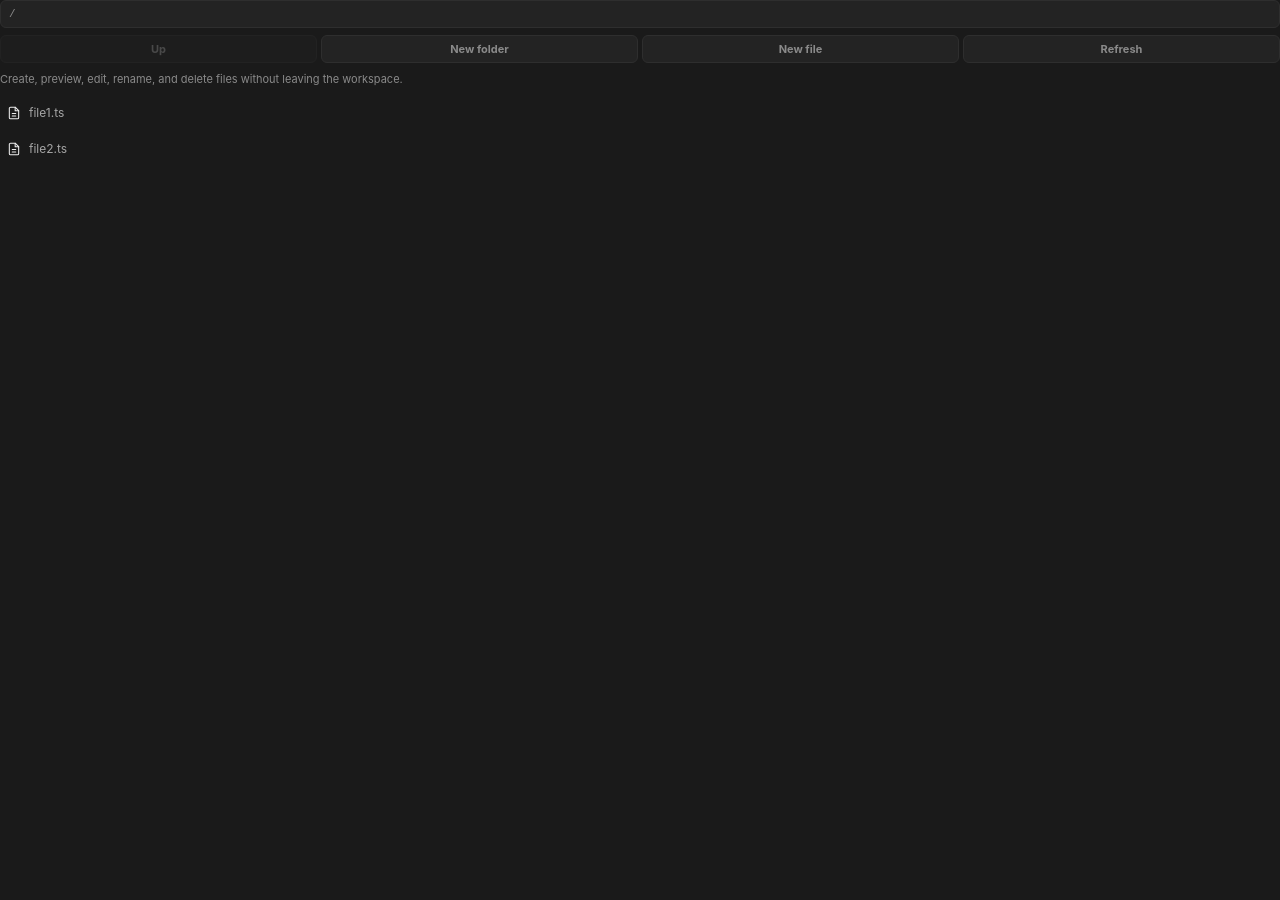
it: WorkspaceFilePanel - Error Handling Properties › Property 6: Failed operations preserve view state › should preserve entries when createFolder fails
expect the text "file1.ts" is shown: met, box [29, 105, 64, 120]
expect the text "file2.ts" is shown: met, box [29, 141, 67, 156]
Click the button "New folder": {"x": 480, "y": 49} [321, 35, 638, 63]
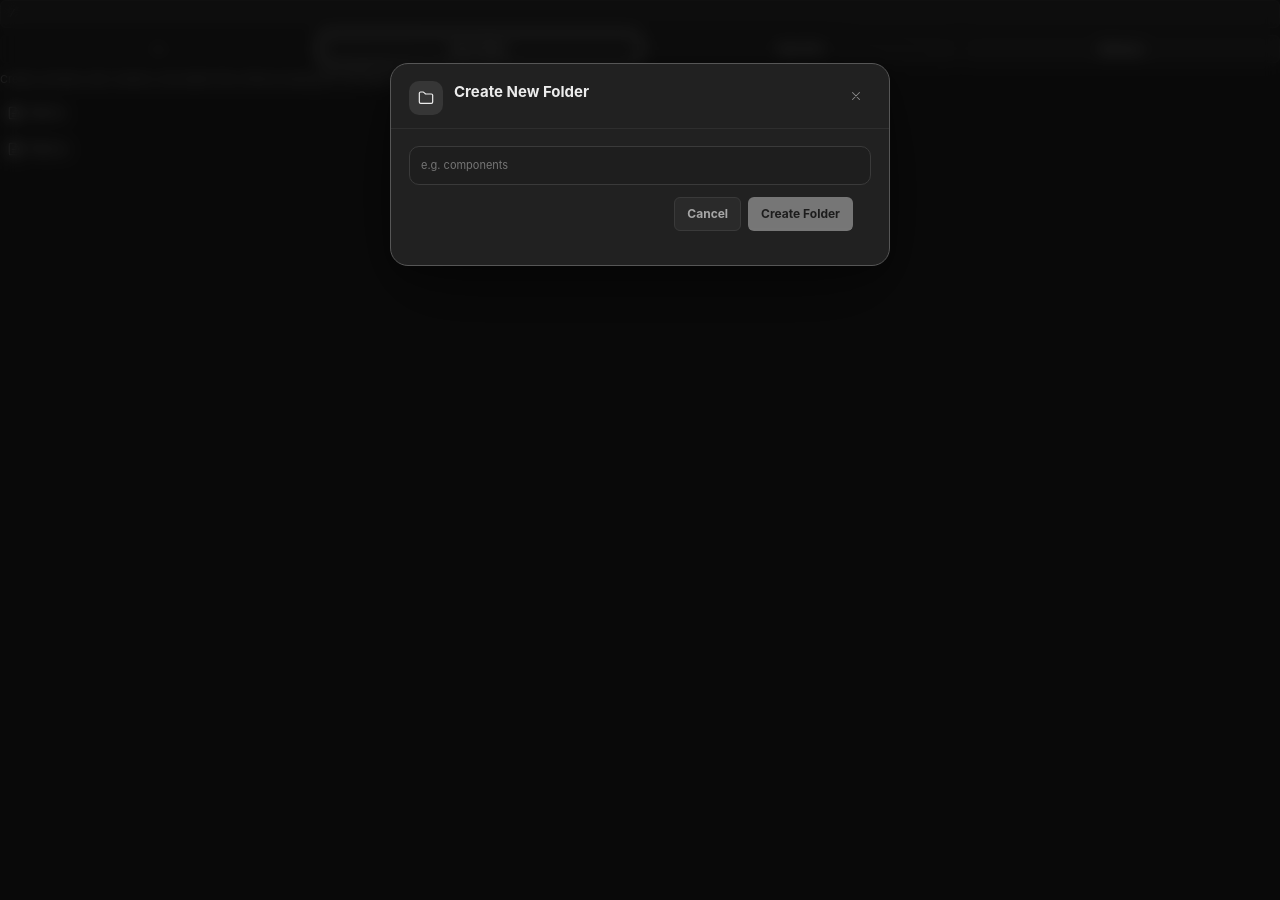
In the field: {"x": 640, "y": 166} [409, 146, 871, 185], type "newfolder"
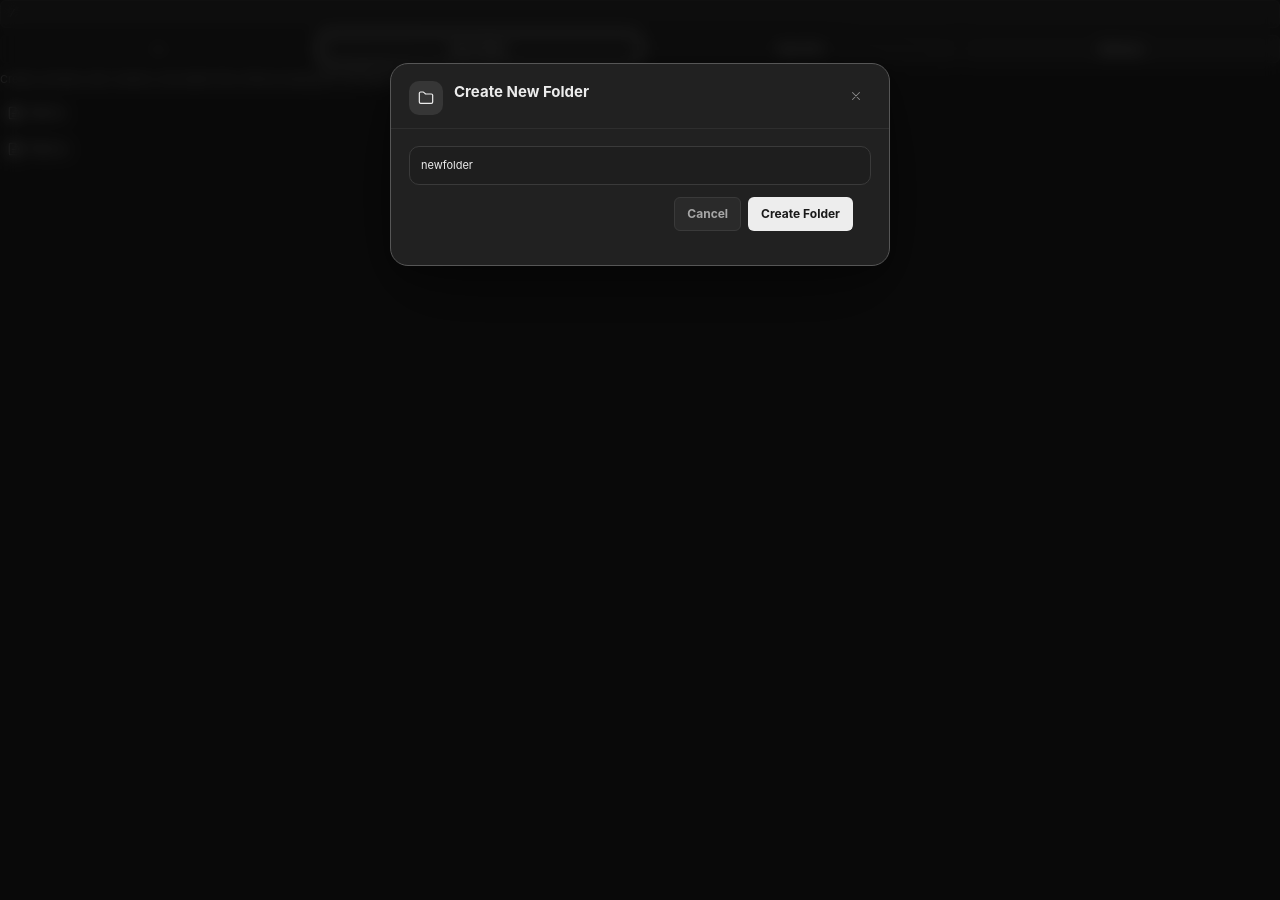
Click the button "Create Folder": {"x": 801, "y": 214} [748, 197, 853, 231]
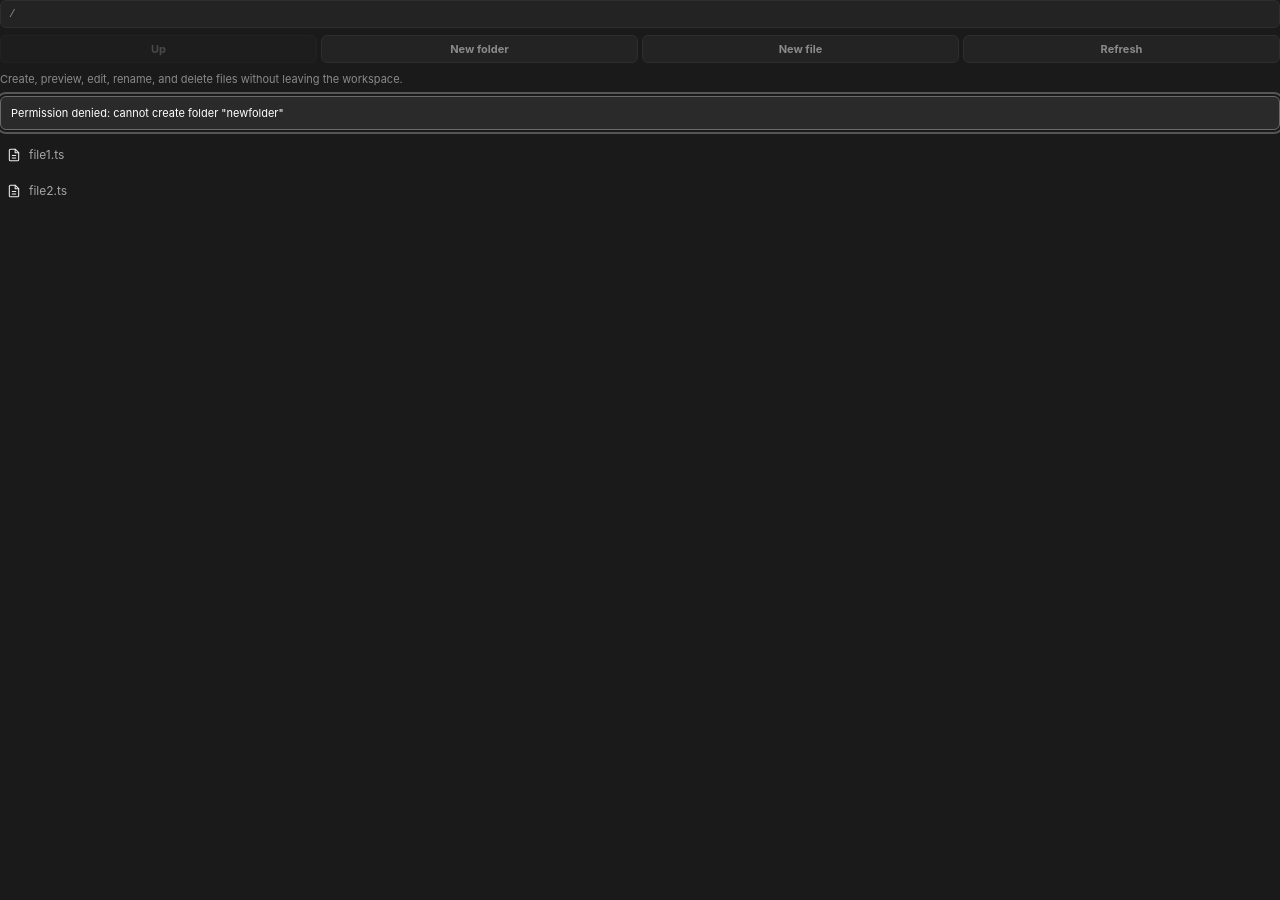
expect the text "file1.ts" is shown: met, box [29, 147, 64, 162]
expect the text "Permission denied: cannot create folder \"newfolder\"" is shown: met, box [0, 96, 1279, 130]
